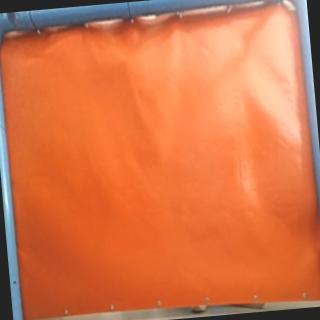Hit-hRxx: (118, 52, 132, 68)
